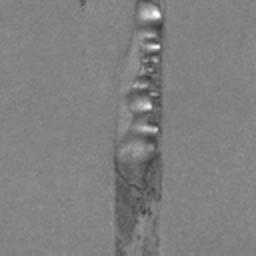Slag inclusion: (113, 0, 167, 256), (110, 110, 119, 135), (111, 73, 121, 92)
